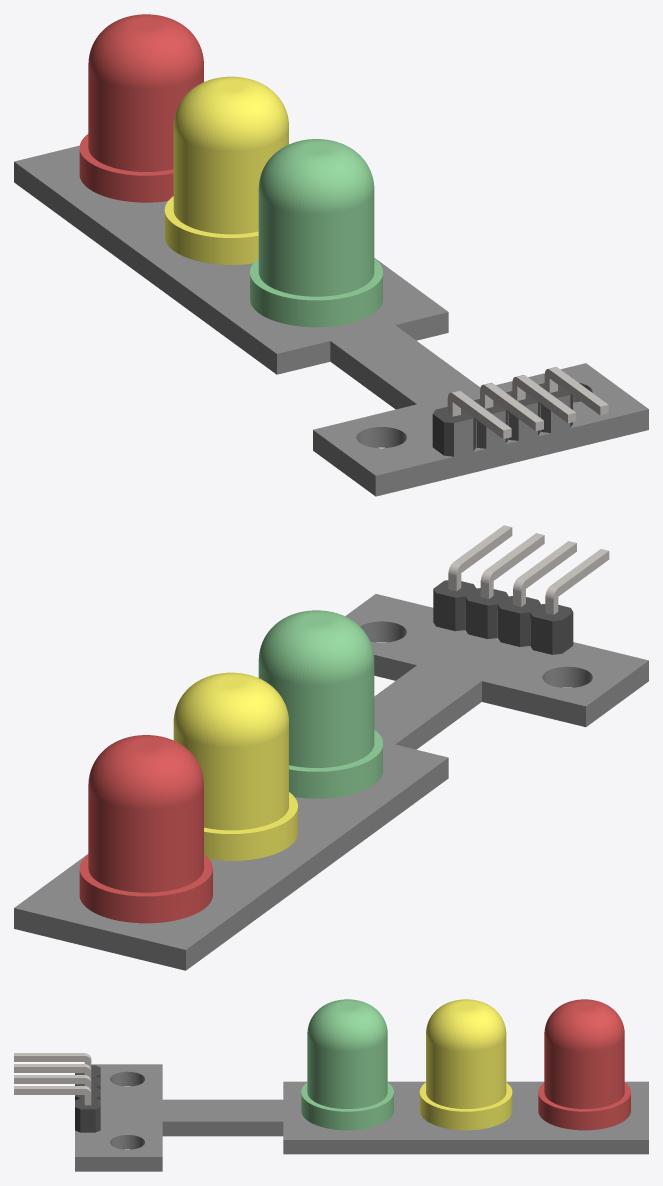
File: Traffic lights LED Module.glb
The picture shows the model from 3 angles, top to bottom: view 1: azimuth 30°, elevation 25°; view 2: azimuth 150°, elevation 25°; view 3: azimuth 270°, elevation 25°; orthographic projection. The views are drawn at different scales.
Visible parts, largest first — view 1: Node7, Node3, Node5, Node4, Node1, Node2; view 2: Node7, Node4, Node3, Node5, Node2, Node1; view 3: Node7, Node5, Node3, Node4, Node1, Node2.
Part boxes in pixels (x1,y1,x2,y2): Node7: (14,145,648,496); Node3: (250,139,382,327); Node5: (164,76,288,264); Node4: (79,14,203,202); Node1: (447,367,608,439); Node2: (432,383,572,456); Node7: (14,594,648,970); Node4: (79,735,212,923); Node3: (258,610,382,798); Node5: (173,672,297,860); Node2: (433,580,573,654); Node1: (448,525,609,637); Node7: (75,1064,648,1171); Node5: (419,999,512,1130); Node3: (301,999,393,1130); Node4: (538,999,630,1130); Node1: (14,1053,91,1105); Node2: (75,1065,100,1132).
Size of the model in its own units: 21.3 by 12.75 by 61.62.
